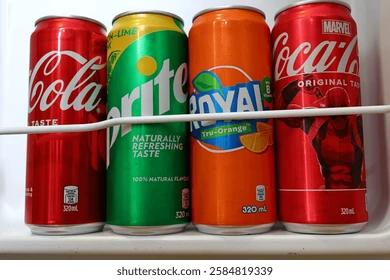can: (272, 1, 370, 235), (188, 4, 278, 240), (21, 14, 110, 240), (106, 5, 190, 239)
